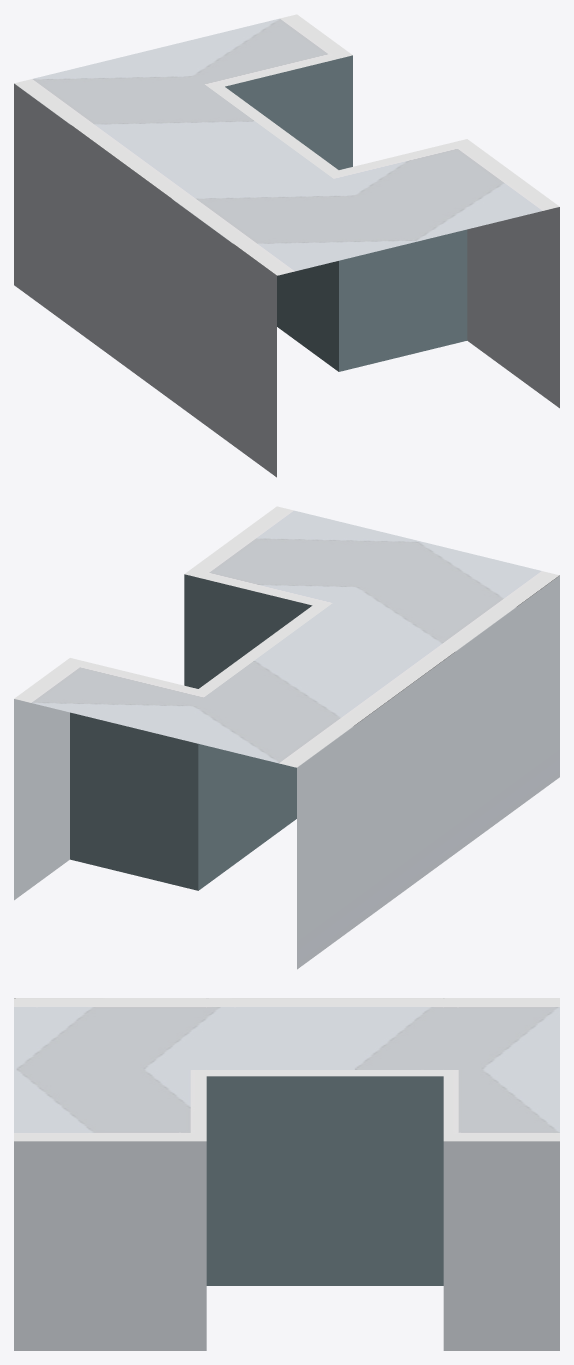
Rendered from Path Holes scale (1).fbx.
The picture shows the model from 3 angles, top to bottom: view 1: azimuth 30°, elevation 25°; view 2: azimuth 150°, elevation 25°; view 3: azimuth 270°, elevation 25°; orthographic projection. The views are drawn at different scales.
Visible parts, largest first — view 1: Path_Left; view 2: Path_Left; view 3: Path_Left.
Boxes of the visible parts, x1,y1,x2,y2 form: Path_Left: (14, 14, 559, 477); Path_Left: (14, 506, 559, 969); Path_Left: (14, 998, 559, 1350).
Size of the model in its own units: 2724 by 1856 by 4384.
Materials: 1 (1 with a texture image).
